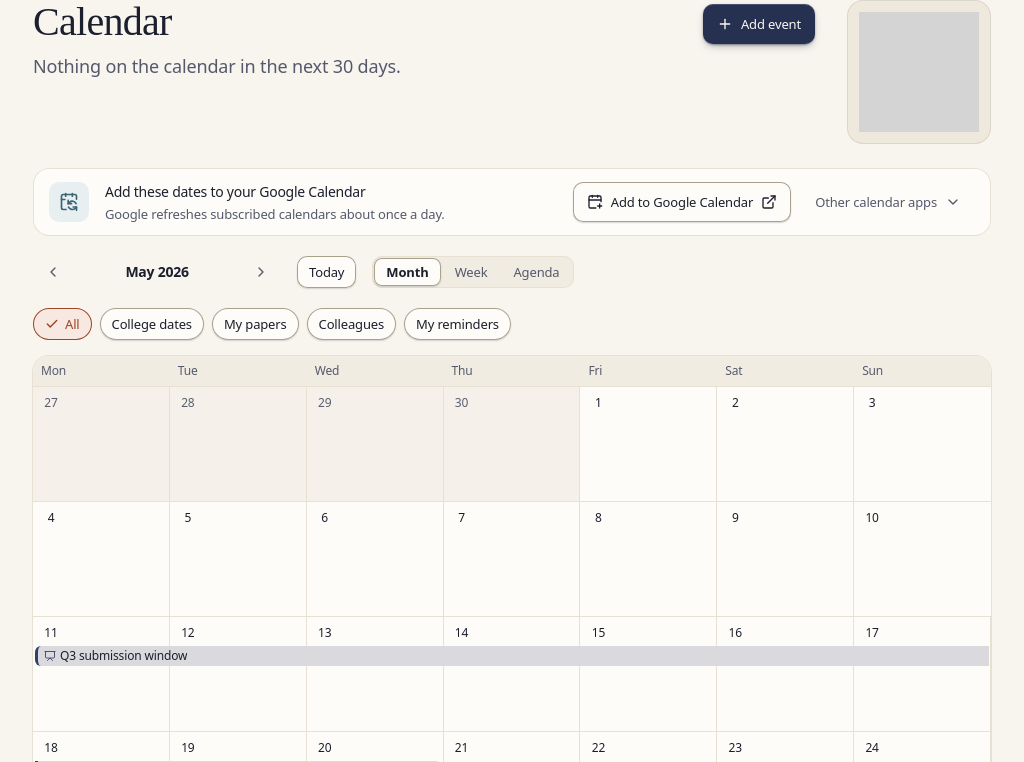
The event sheet › shows where, who and the link when the event has them
This screenshot has width=1024, height=762.
Click the 1st button "Q3 submission window". click: (124, 656)
box: [35,646,989,666]
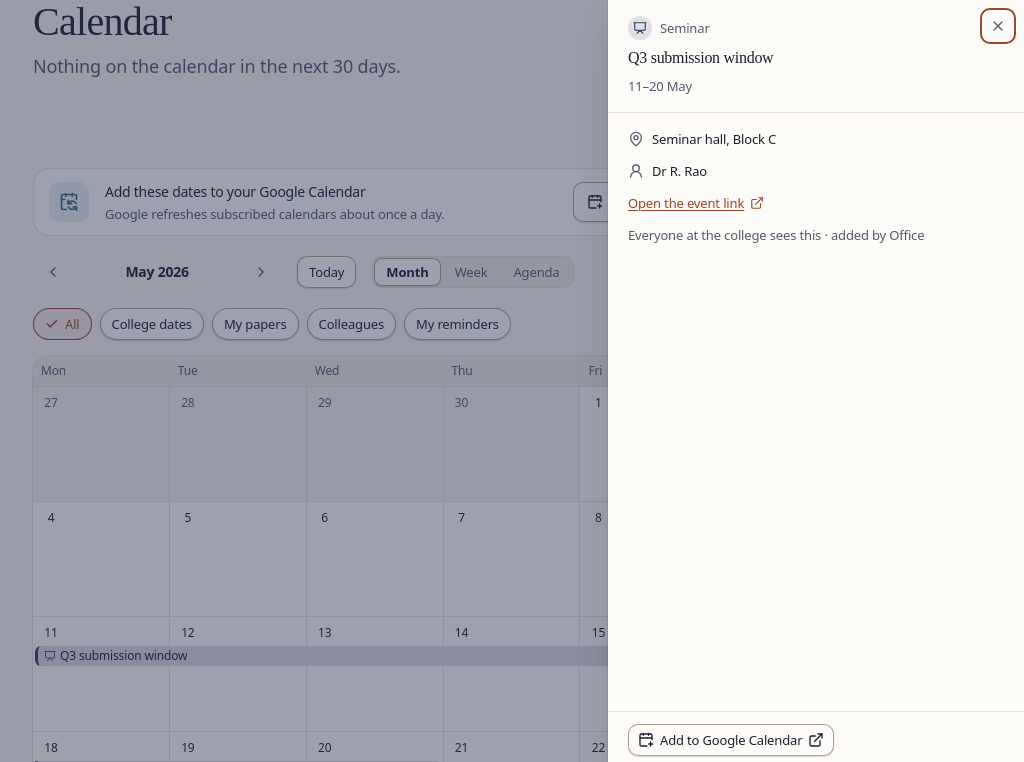
Expected: the text "Seminar hall, Block C" is shown, [652,129,776,149]
Expected: the text "Dr R. Rao" is shown, [652,161,707,181]
